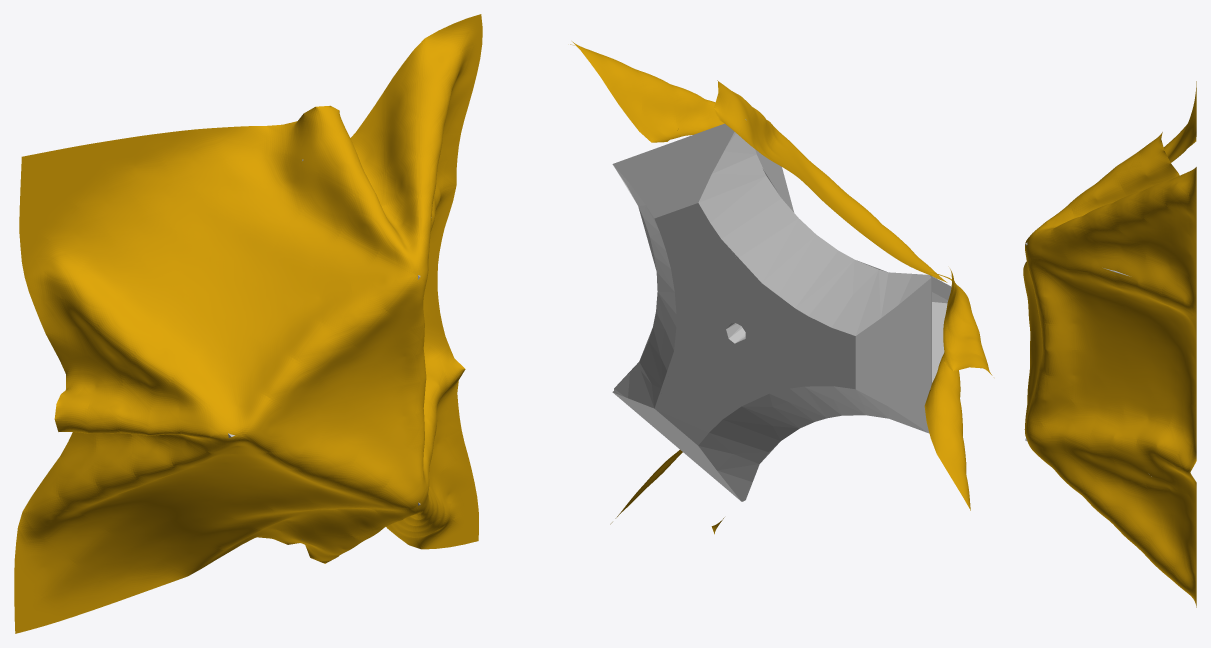
Rendered from drapenet.glb.
3 renders of one model, left to right at view 1: azimuth 30°, elevation 25°; view 2: azimuth 150°, elevation 25°; view 3: azimuth 270°, elevation 25°, orthographic. The views are drawn at different scales.
Parts seen in each view (by area): view 1: level_4.ply; view 2: object.obj, level_4.ply; view 3: level_4.ply.
Boxes of the visible parts, <box> form: level_4.ply: <box>14,14,482,633</box>; object.obj: <box>612,119,951,501</box>; level_4.ply: <box>570,41,992,534</box>; level_4.ply: <box>1023,81,1196,607</box>.
Size of the model in its own units: 0.5066 by 0.5439 by 0.1883.
